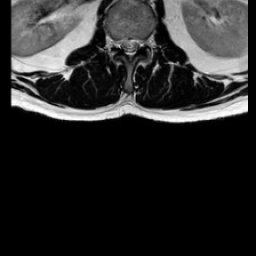CCS_normal: (126, 27, 133, 68)
LFS_normal: (141, 28, 148, 53)
LLS_normal: (133, 27, 141, 58)
RFS_normal: (111, 30, 118, 54)
RLS_normal: (118, 28, 126, 55)
